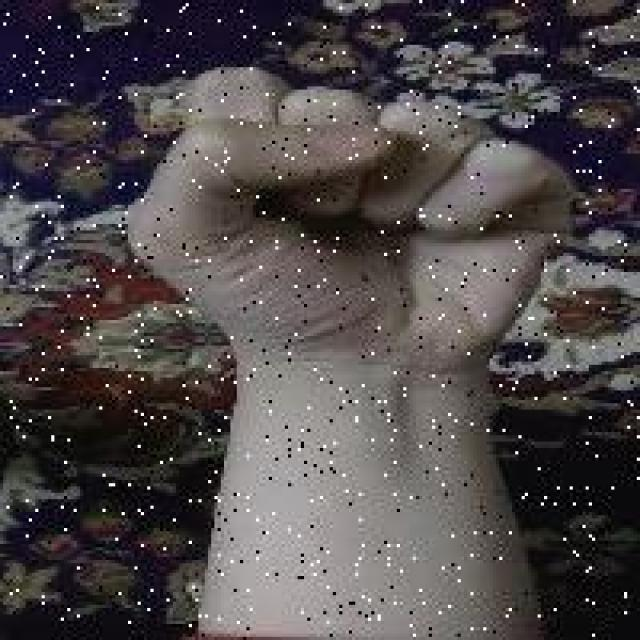S: (122, 61, 579, 384)
